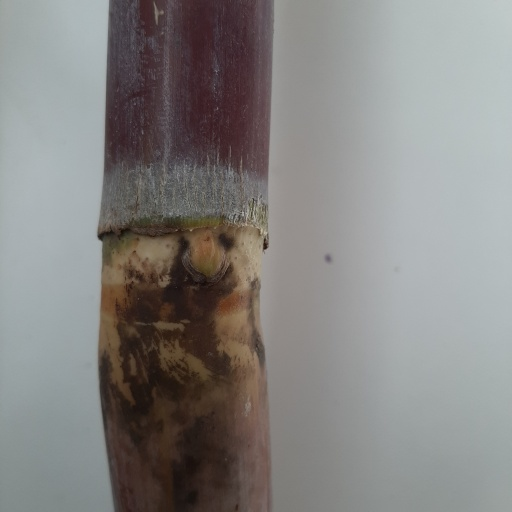Bud: (189, 231, 228, 281)
